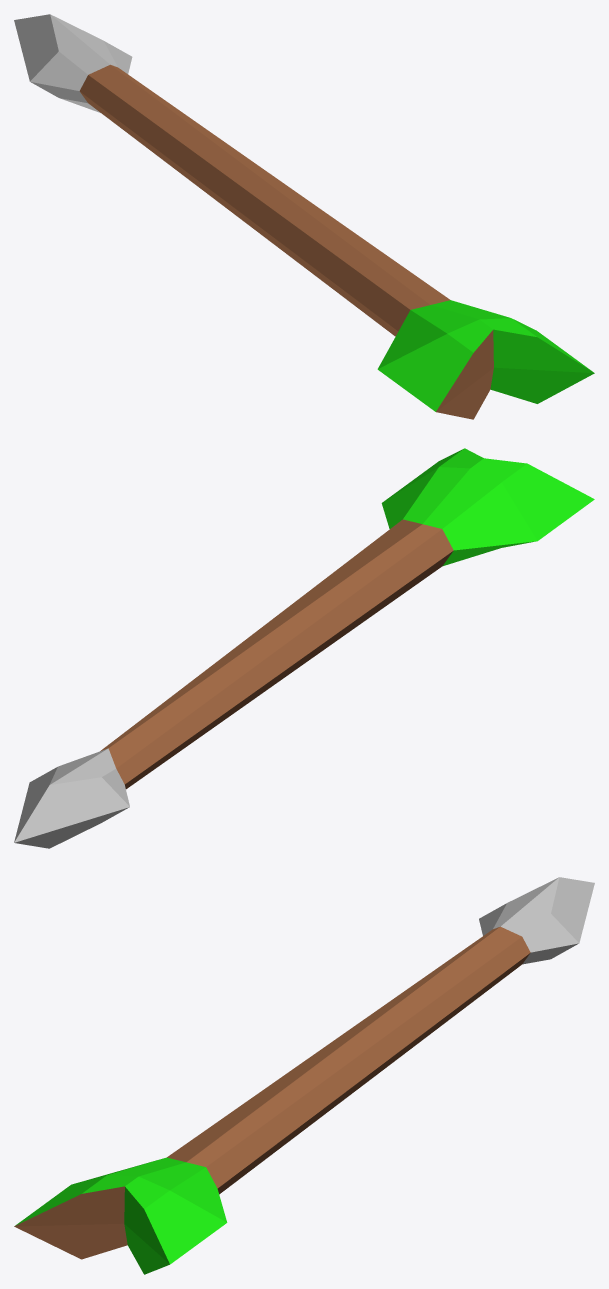
File: arrow.fbx
The picture shows the model from 3 angles, top to bottom: view 1: azimuth 30°, elevation 25°; view 2: azimuth 150°, elevation 25°; view 3: azimuth 330°, elevation 25°; orthographic projection.
Visible parts, largest first — view 1: Cube; view 2: Cube; view 3: Cube.
Boxes of the visible parts, bbox=[...] form: Cube: bbox=[14, 14, 594, 419]; Cube: bbox=[14, 448, 594, 848]; Cube: bbox=[14, 877, 594, 1274].
Size of the model in its own units: 32.05 by 14.2 by 177.
